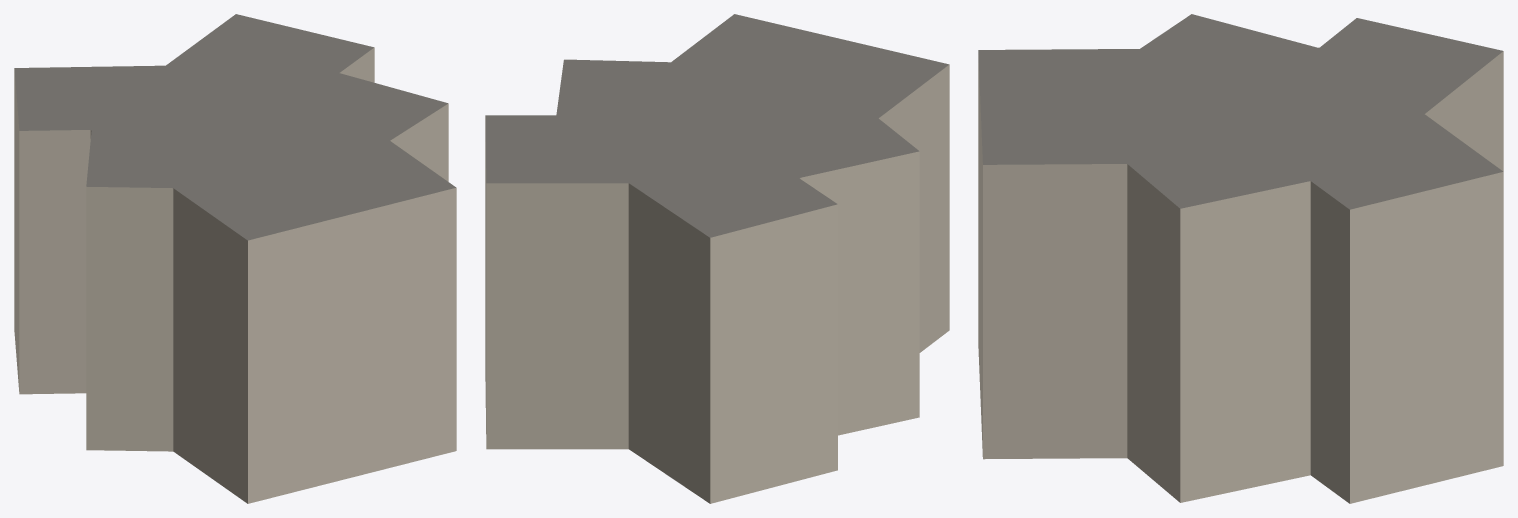
3 views of the same model, side by side, from view 1: azimuth 30°, elevation 25°; view 2: azimuth 150°, elevation 25°; view 3: azimuth 270°, elevation 25° (orthographic). The views are drawn at different scales.
Parts seen in each view (by area): view 1: HP-w859488850; view 2: HP-w859488850; view 3: HP-w859488850.
Boxes of the visible parts, bbox=[...] form: HP-w859488850: bbox=[14, 14, 456, 503]; HP-w859488850: bbox=[485, 14, 949, 503]; HP-w859488850: bbox=[978, 14, 1503, 503].
Bounding box in the file's own units: 25.68 × 18 × 29.13.
